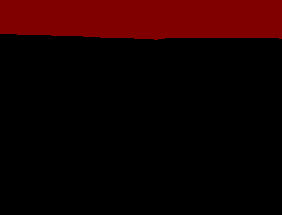Sky: (1, 1, 281, 214)
